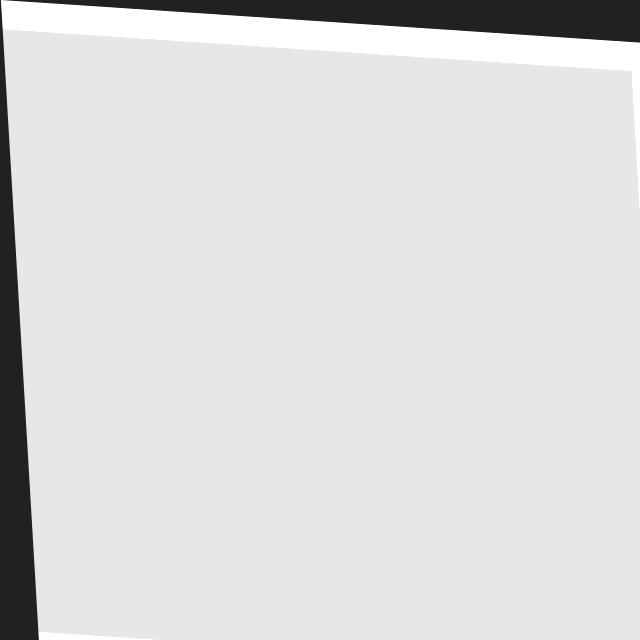qr_code: (1, 29, 640, 640)
